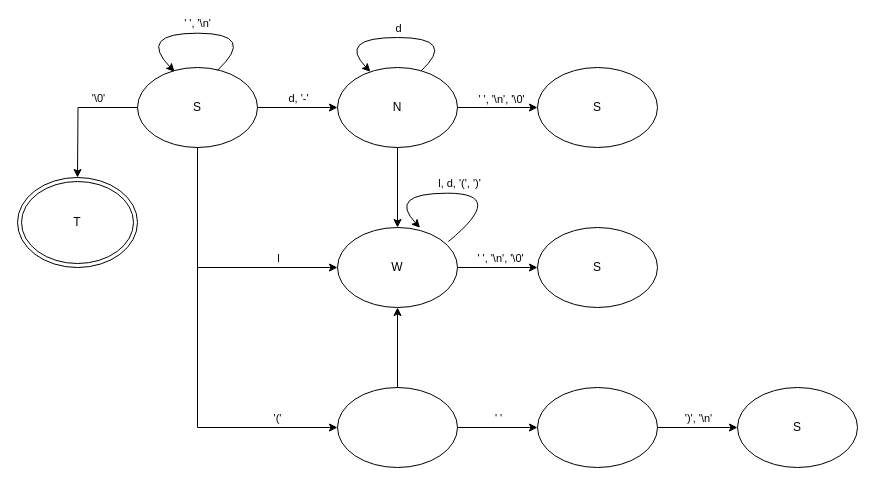
Some shapes in this 875 by 485 pixel diagram are drawn without their labels. The shapes that lost their labels are listed below. From the top down, each one's box as (x1, y1, x2, y2) in pixels, then its label:
(336, 386, 458, 468): CoW
(536, 386, 658, 468): COM
